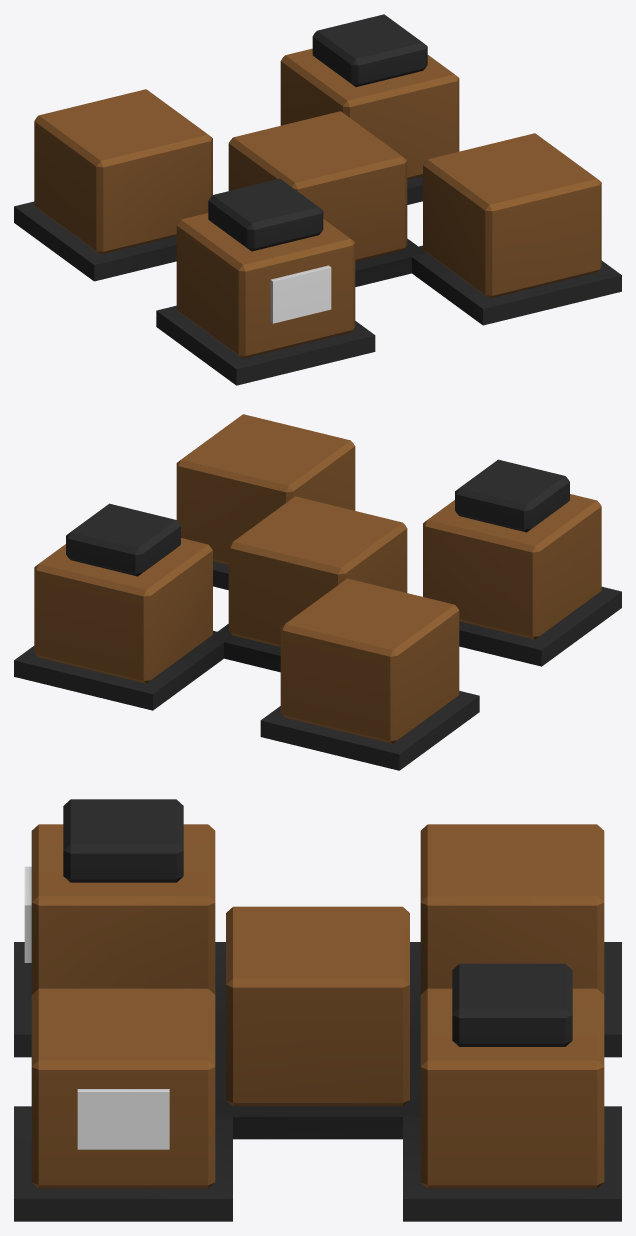
File: supply-depot.glb
3 views of the same model, one above another, from view 1: azimuth 30°, elevation 25°; view 2: azimuth 150°, elevation 25°; view 3: azimuth 270°, elevation 25° (orthographic). The views are drawn at different scales.
Visible parts, largest first — view 1: supply-depot; view 2: supply-depot; view 3: supply-depot.
Boxes of the visible parts, left/top/right/bottom form: supply-depot: left=14, top=14, right=621, bottom=385; supply-depot: left=14, top=414, right=621, bottom=770; supply-depot: left=14, top=799, right=621, bottom=1221.
Size of the model in its own units: 1.72 by 0.59 by 1.72.
